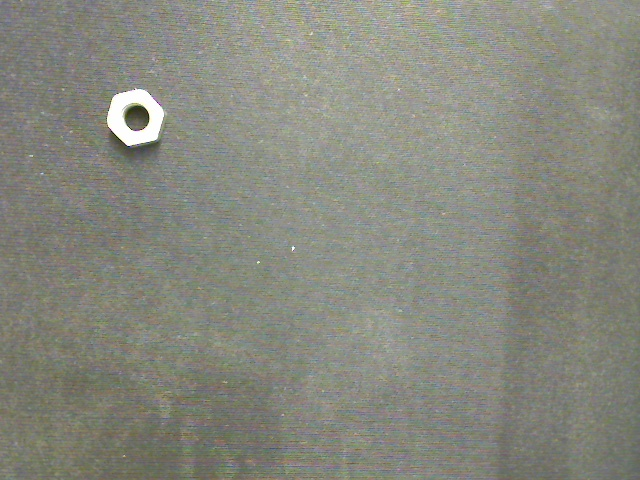Nut: (106, 88, 169, 148)
